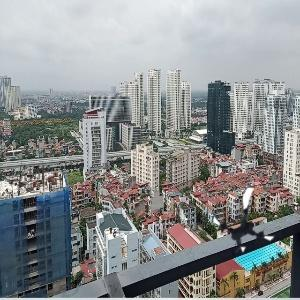drone: (212, 186, 284, 258)
